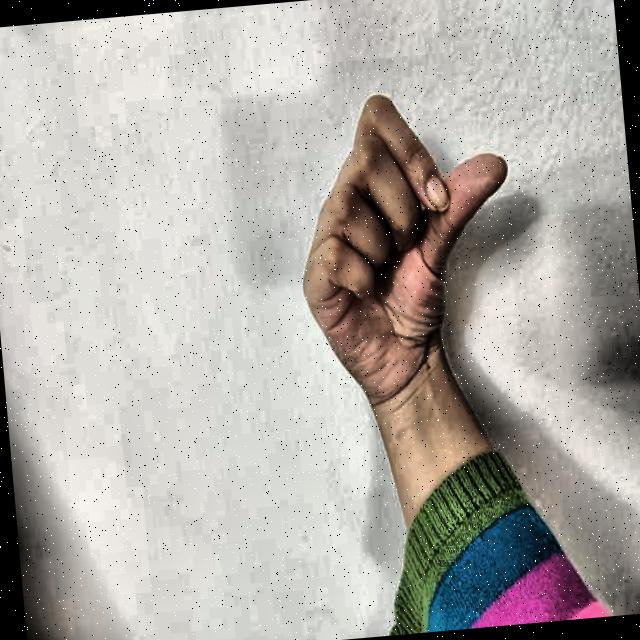Ay: (256, 48, 541, 430)
